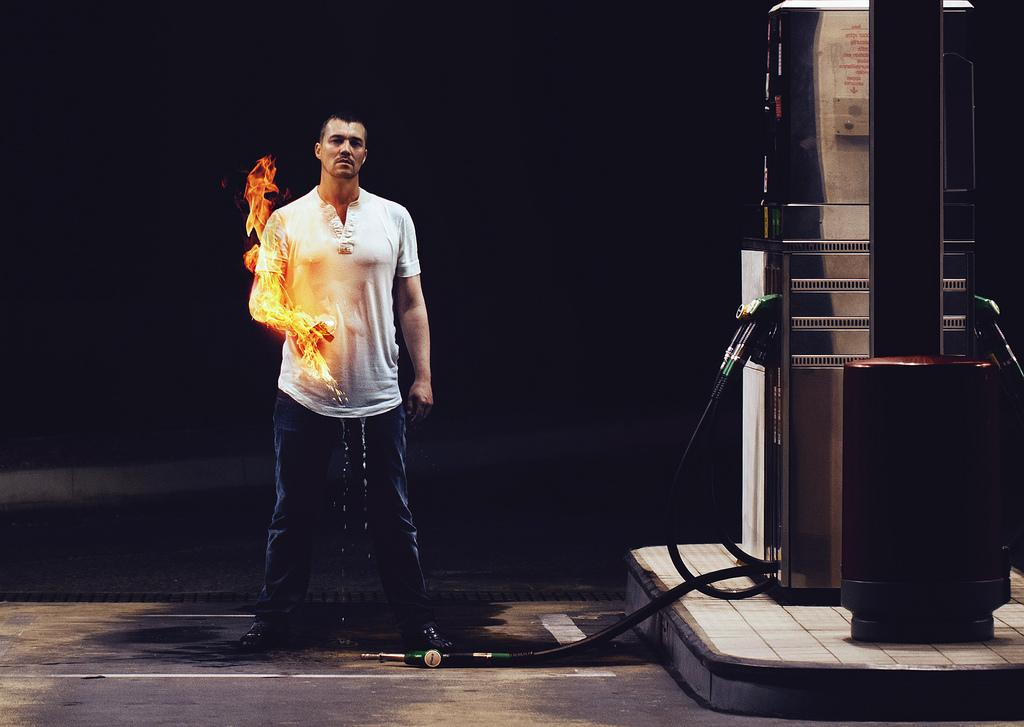fire: (296, 292, 346, 396), (242, 154, 284, 264)
